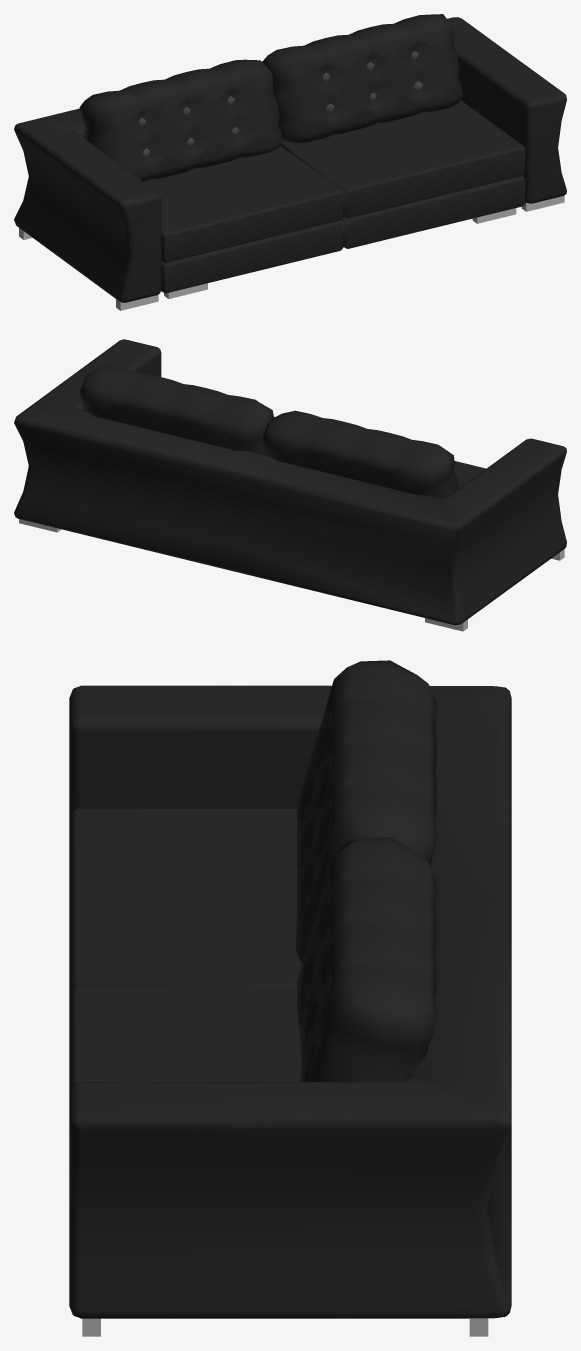
Rendered from sofa_001.fbx.
3 renders of one model, top to bottom at view 1: azimuth 30°, elevation 25°; view 2: azimuth 150°, elevation 25°; view 3: azimuth 270°, elevation 25°, orthographic. The views are drawn at different scales.
Visible parts, largest first — view 1: sofa_001; view 2: sofa_001; view 3: sofa_001.
Boxes of the visible parts, x1,y1,x2,y2 form: sofa_001: (14, 14, 566, 310); sofa_001: (14, 339, 566, 631); sofa_001: (69, 660, 511, 1336).
Bounding box in the file's own units: 367 × 157 × 116.
